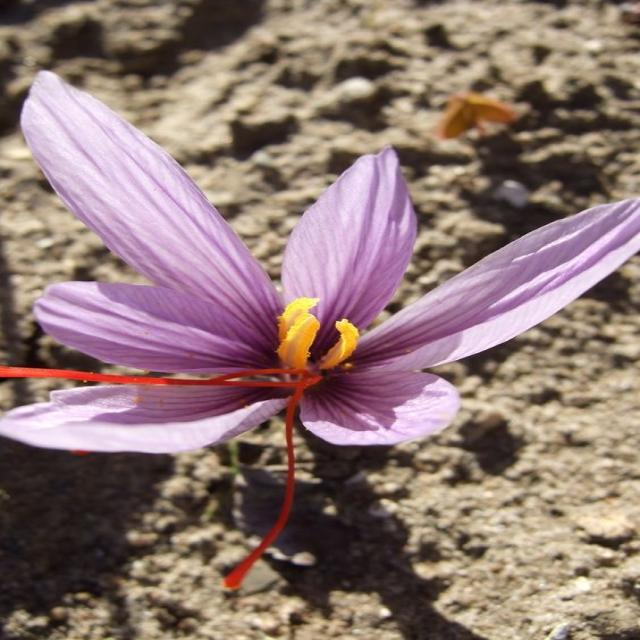Flower: (0, 72, 640, 454)
stigma: (219, 397, 297, 589), (0, 365, 322, 386)
